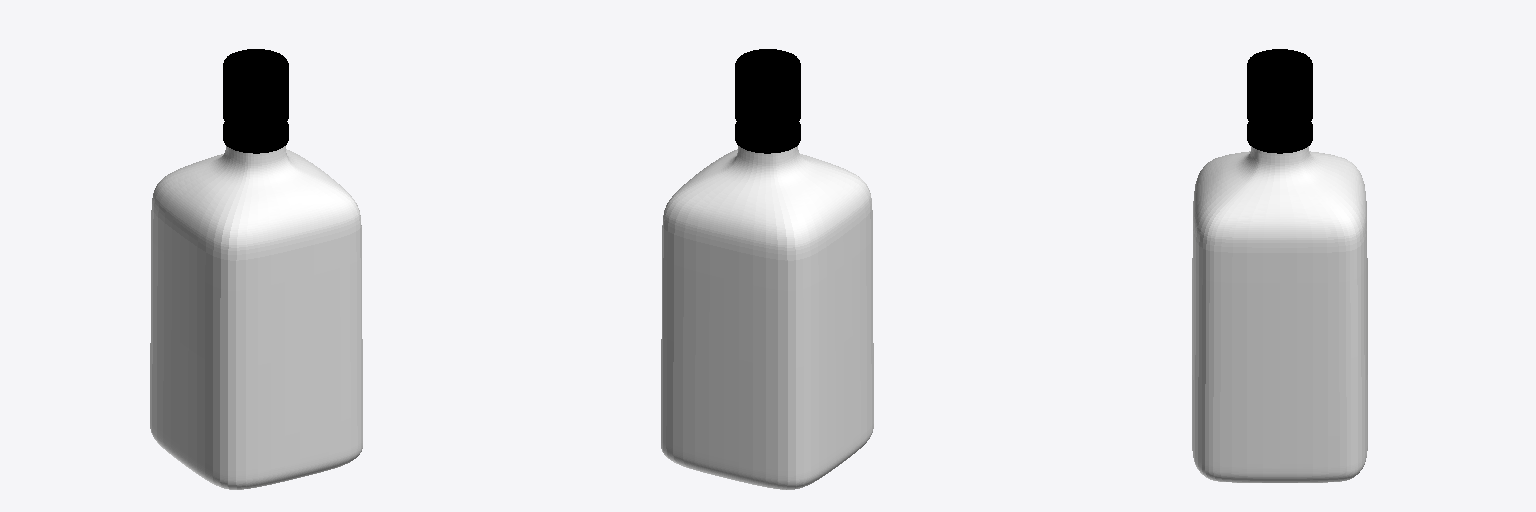
File: liqueur_bottle_4.obj
The picture shows the model from 3 angles: view 1: azimuth 30°, elevation 25°; view 2: azimuth 150°, elevation 25°; view 3: azimuth 270°, elevation 25°; orthographic projection.
Parts seen in each view (by area): view 1: liqueur_bottle_4_glass, liqueur_bottle_4_top; view 2: liqueur_bottle_4_glass, liqueur_bottle_4_top; view 3: liqueur_bottle_4_glass, liqueur_bottle_4_top.
Part boxes in pixels (bbox=[...]): liqueur_bottle_4_glass: bbox=[150, 146, 362, 489]; liqueur_bottle_4_top: bbox=[223, 49, 288, 153]; liqueur_bottle_4_glass: bbox=[661, 146, 873, 489]; liqueur_bottle_4_top: bbox=[735, 49, 800, 153]; liqueur_bottle_4_glass: bbox=[1192, 146, 1367, 482]; liqueur_bottle_4_top: bbox=[1247, 49, 1312, 153].
Bounding box in the file's own units: 8.25 × 20.08 × 8.25.